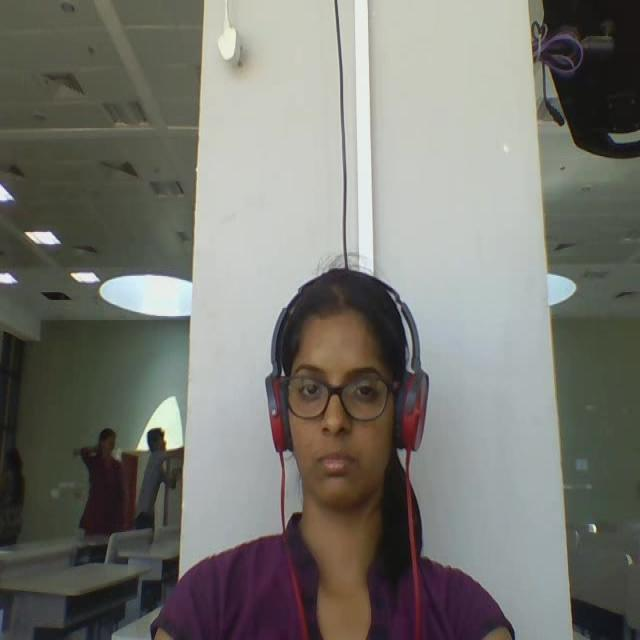Engaged: (242, 248, 443, 554)
